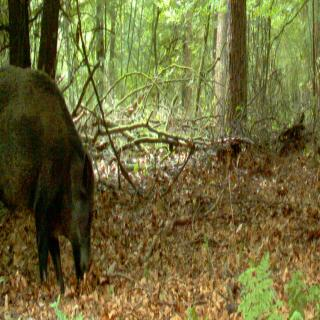Pig: (0, 20, 116, 320)
